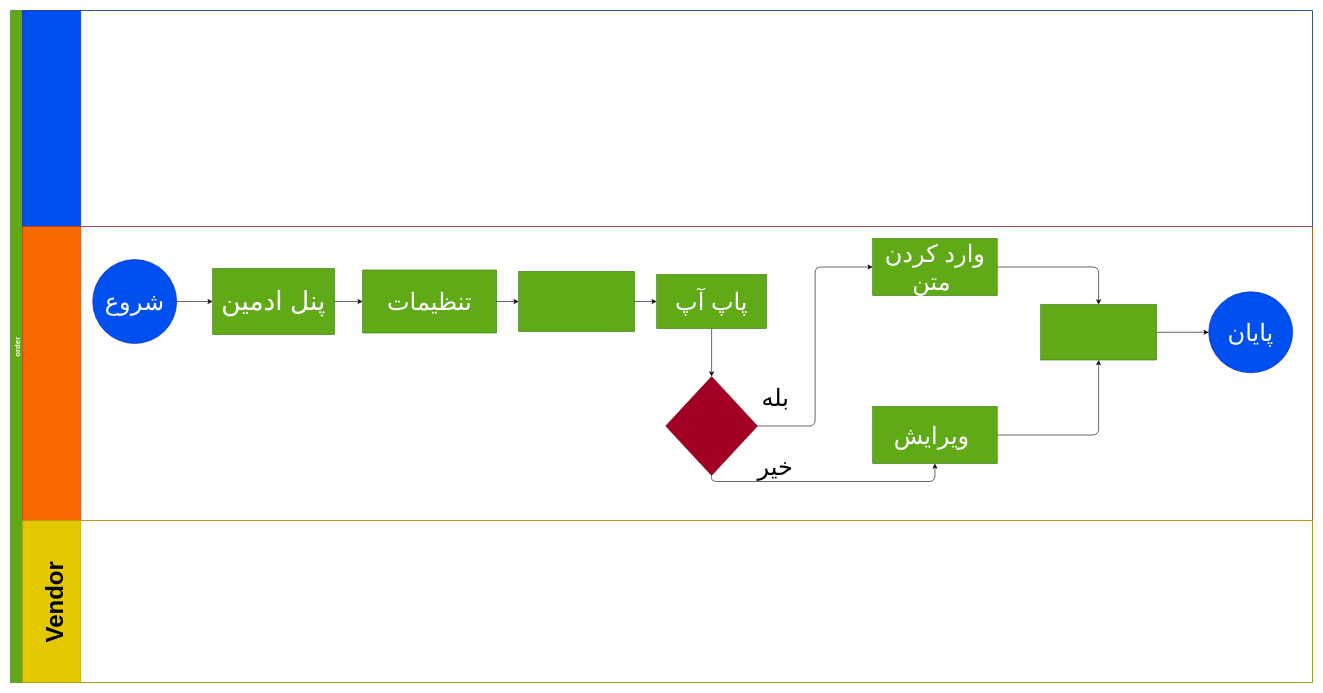
Some shapes in this 1323 by 693 pixel diagram are drawn without their labels. The box of each missing label's shape, as (x1, y1, x2, y2) in pixels:
Customer: (22, 10, 1312, 226)
Postex: (22, 226, 1312, 520)
تنظیمات اطلاع رسانی: (518, 271, 634, 332)
تیک فعال: (1040, 304, 1156, 360)
ثبت جدید: (665, 376, 758, 476)
